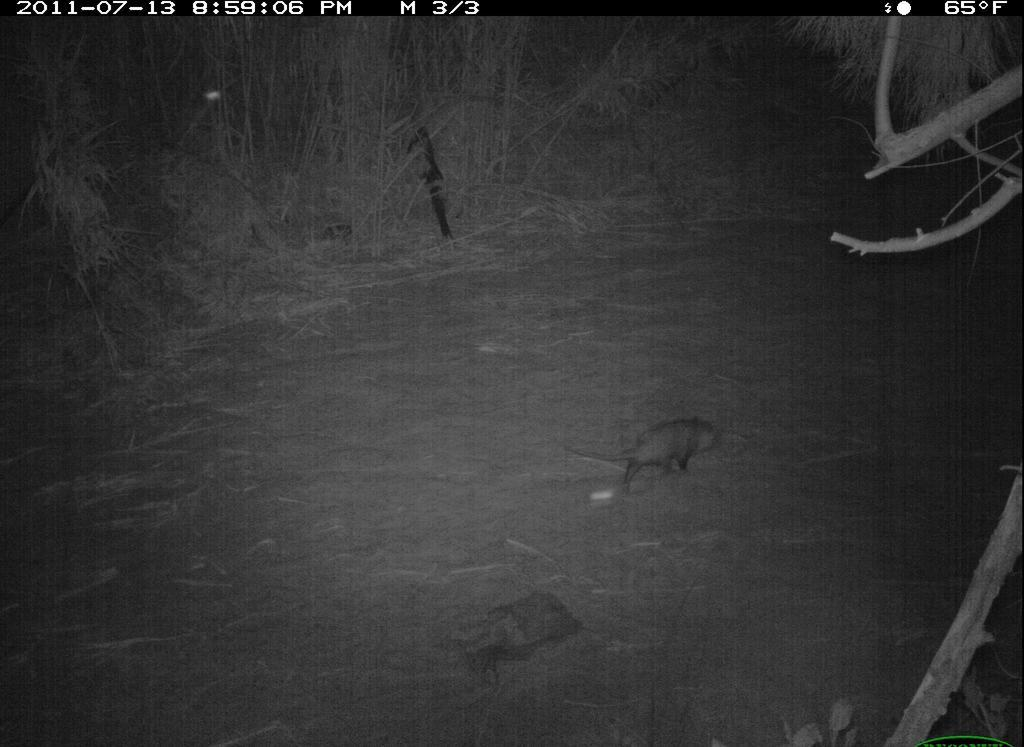opossum: (559, 410, 730, 504)
